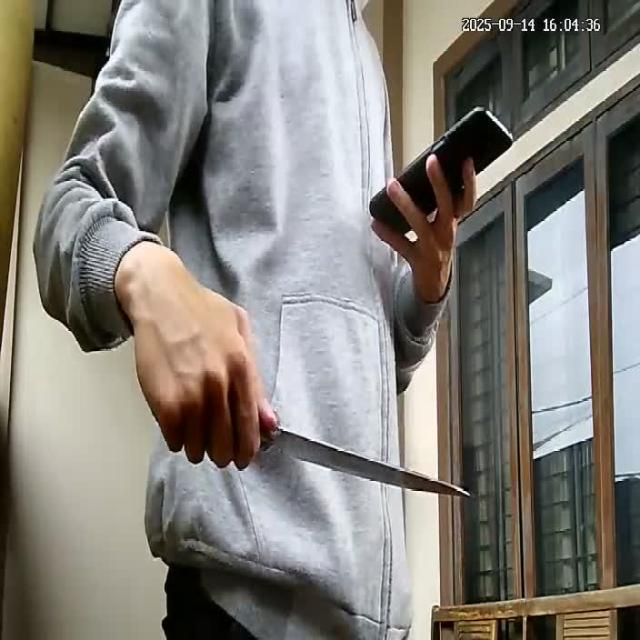senjata_tajam: (262, 424, 472, 499)
